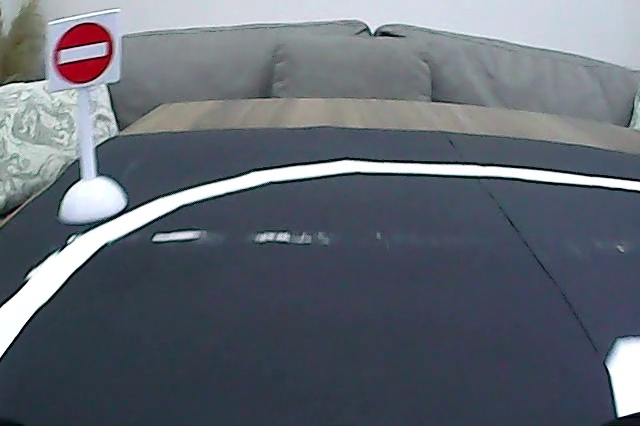do not enter: (52, 20, 116, 87)
